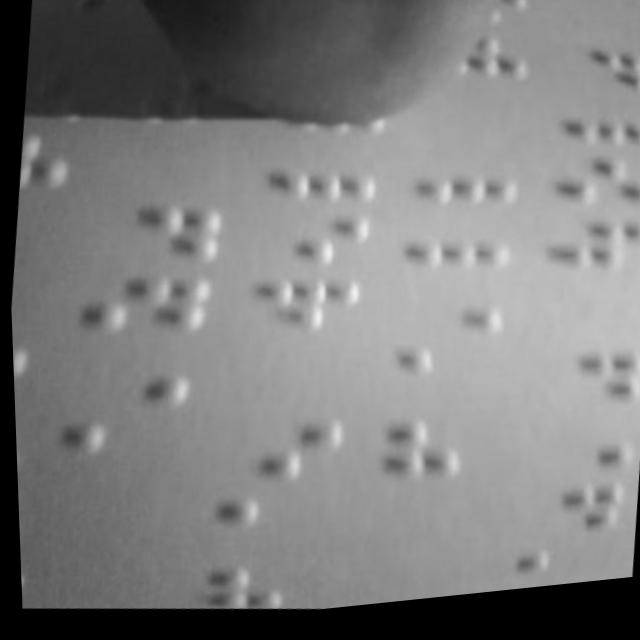braiile: (73, 259, 218, 349), (214, 412, 344, 496), (233, 274, 363, 357), (94, 195, 225, 276), (70, 344, 194, 425), (264, 133, 382, 217), (256, 211, 377, 289), (412, 139, 522, 223), (513, 481, 630, 558), (399, 282, 508, 359), (533, 350, 640, 428), (527, 420, 636, 495), (406, 216, 514, 290), (543, 222, 640, 297), (550, 162, 640, 230), (549, 47, 640, 114), (561, 98, 640, 171)
